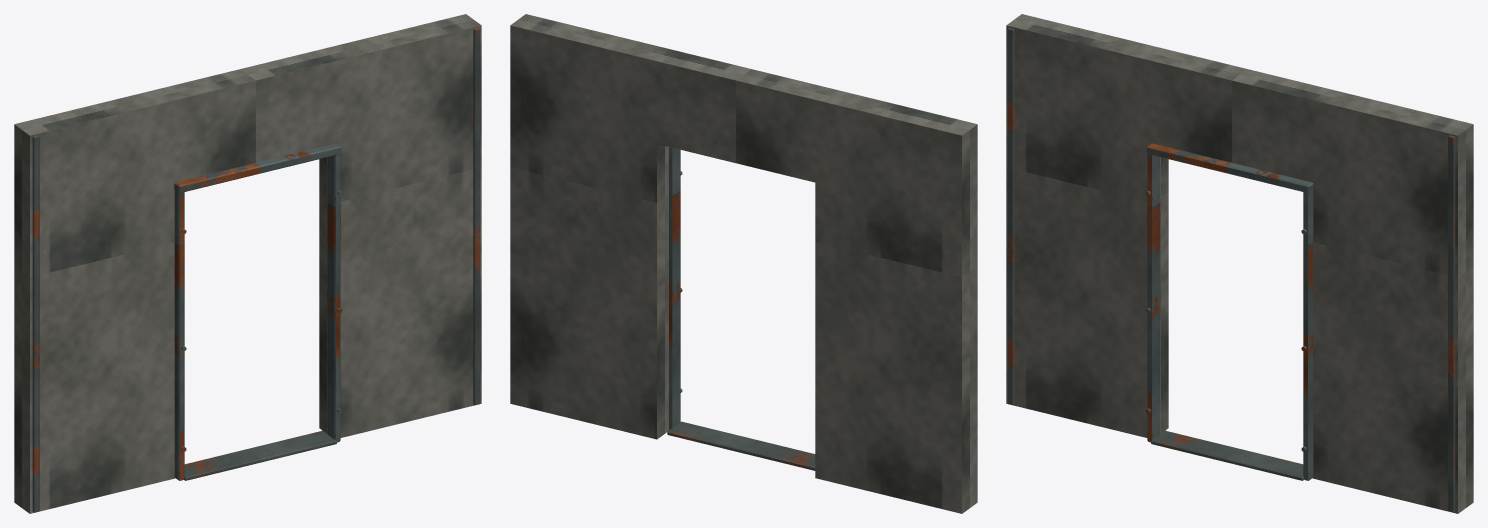
File: wall_doorway_4m_v03.glb
The picture shows the model from 3 angles, left to right: view 1: azimuth 30°, elevation 25°; view 2: azimuth 150°, elevation 25°; view 3: azimuth 330°, elevation 25°; orthographic projection.
Parts seen in each view (by area): view 1: concrete_combined, steel_combined, roof_combined; view 2: concrete_combined, steel_combined, roof_combined; view 3: concrete_combined, steel_combined, roof_combined.
Boxes of the visible parts, box(x1,y1,x2,y2) form: concrete_combined: box(14, 14, 481, 513); steel_combined: box(174, 143, 342, 480); roof_combined: box(32, 27, 480, 512); concrete_combined: box(510, 14, 977, 513); steel_combined: box(669, 147, 682, 429); roof_combined: box(667, 421, 815, 470); concrete_combined: box(1006, 14, 1473, 513); steel_combined: box(1145, 143, 1313, 480); roof_combined: box(1007, 27, 1455, 512).
Size of the model in its own units: 4 by 3.2 by 0.342.
3 materials, 3 textured.
